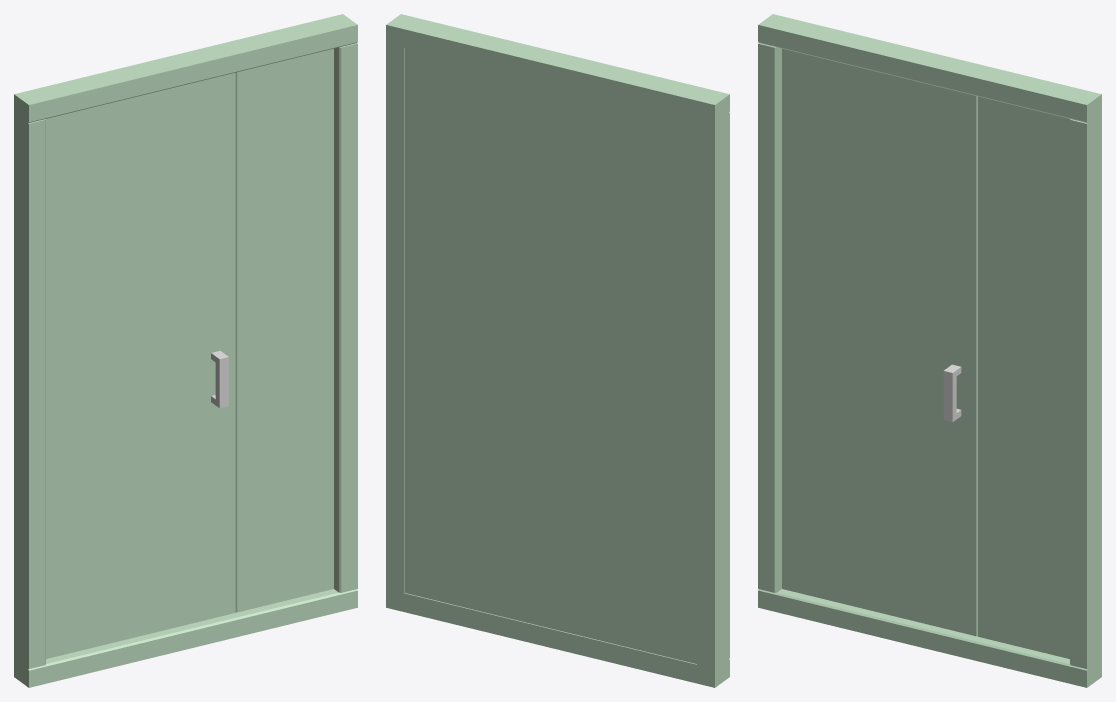
File: mod_door_onehalf.glb
3 views of the same model, side by side, from view 1: azimuth 30°, elevation 25°; view 2: azimuth 150°, elevation 25°; view 3: azimuth 330°, elevation 25° (orthographic).
Parts seen in each view (by area): view 1: leaf_main, leaf_minor, frame_left, frame_right, frame_top, treshold, Handle; view 2: leaf_main, leaf_minor, frame_left, frame_top, frame_right, treshold; view 3: leaf_main, leaf_minor, frame_right, frame_left, frame_top, treshold, Handle.
Part boxes in pixels (box(x1,y1,x2,y2)): leaf_main: box(46, 72, 235, 658); leaf_minor: box(235, 48, 333, 612); frame_left: box(14, 113, 45, 668); frame_right: box(334, 43, 357, 592); frame_top: box(14, 14, 357, 123); treshold: box(14, 589, 357, 687); Handle: box(211, 350, 228, 408); leaf_main: box(502, 72, 696, 663); leaf_minor: box(404, 48, 502, 616); frame_left: box(697, 113, 729, 668); frame_top: box(386, 14, 729, 123); frame_right: box(386, 43, 404, 592); treshold: box(386, 589, 729, 687); leaf_main: box(782, 48, 977, 636); leaf_minor: box(978, 96, 1069, 658); frame_right: box(1070, 113, 1101, 668); frame_left: box(758, 43, 781, 592); frame_top: box(758, 14, 1101, 123); treshold: box(758, 589, 1101, 687); Handle: box(943, 364, 961, 422).
Size of the model in its own units: 1.28 by 2.17 by 0.1179.
